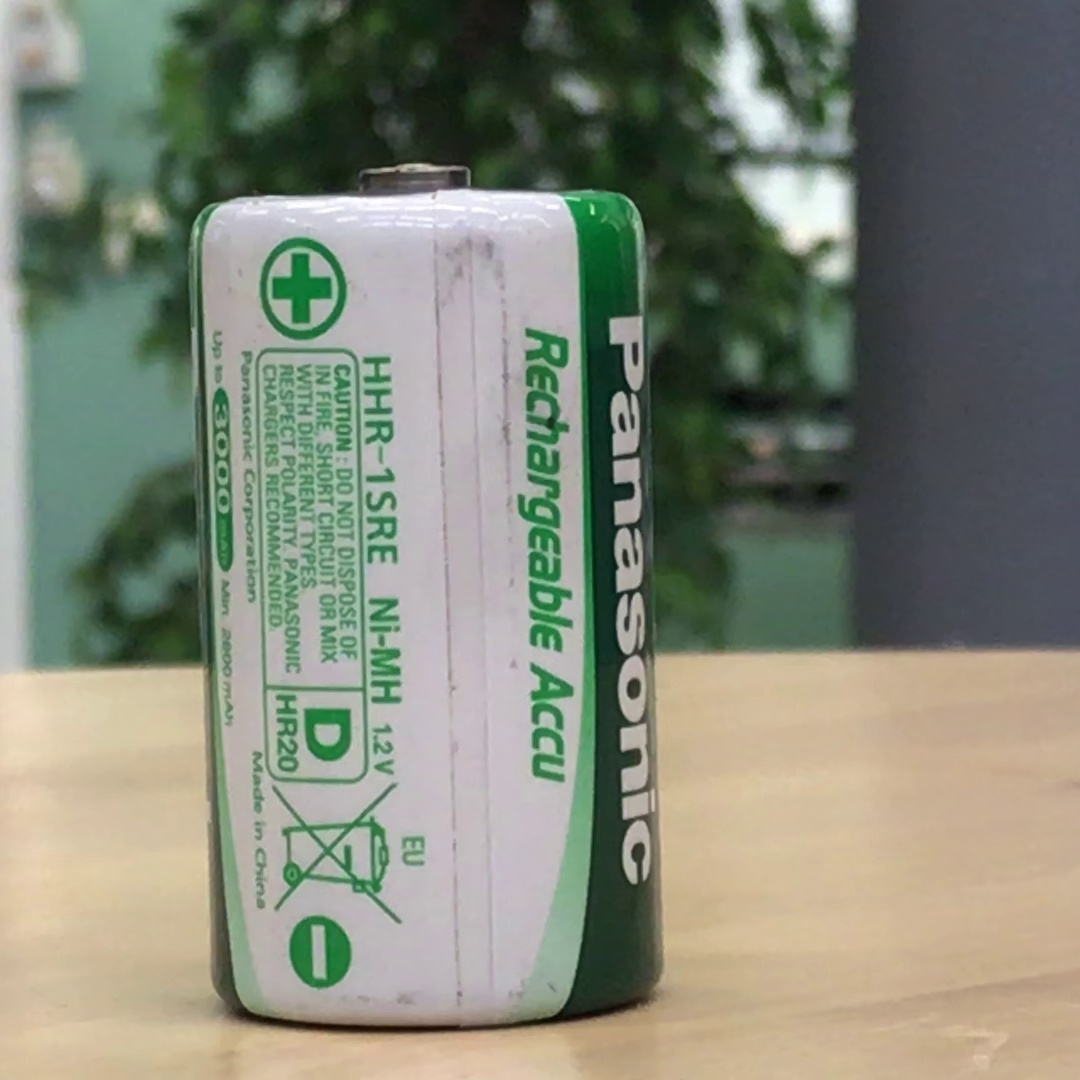keyword: (366, 717, 402, 789)
